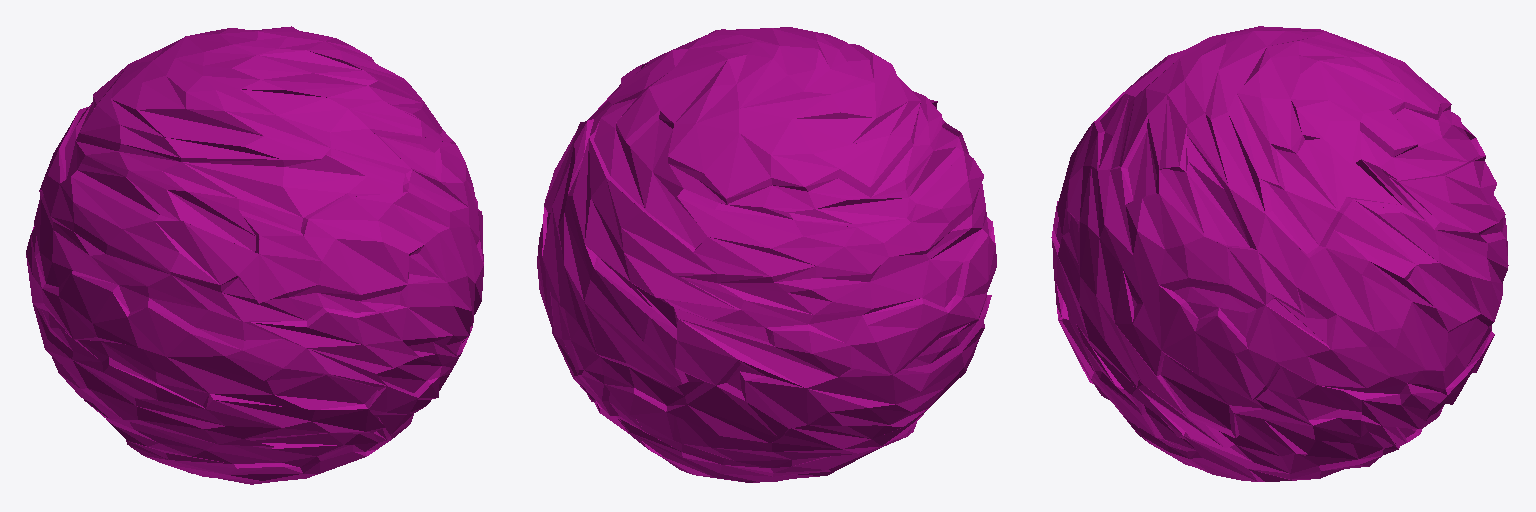
File: jupiter_scaled.obj
3 views of the same model, side by side, from view 1: azimuth 30°, elevation 25°; view 2: azimuth 150°, elevation 25°; view 3: azimuth 270°, elevation 25° (orthographic).
Visible parts, largest first — view 1: Jupiter.001; view 2: Jupiter.001; view 3: Jupiter.001.
Boxes of the visible parts, x1,y1,x2,y2 form: Jupiter.001: [26, 26, 483, 484]; Jupiter.001: [537, 27, 996, 482]; Jupiter.001: [1051, 26, 1508, 481].
Size of the model in its own units: 10.01 by 10.08 by 10.04.